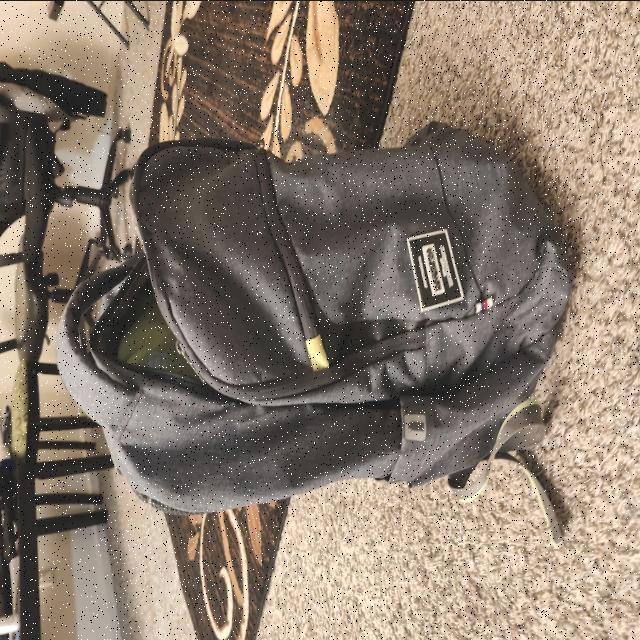bag: (59, 144, 586, 510)
